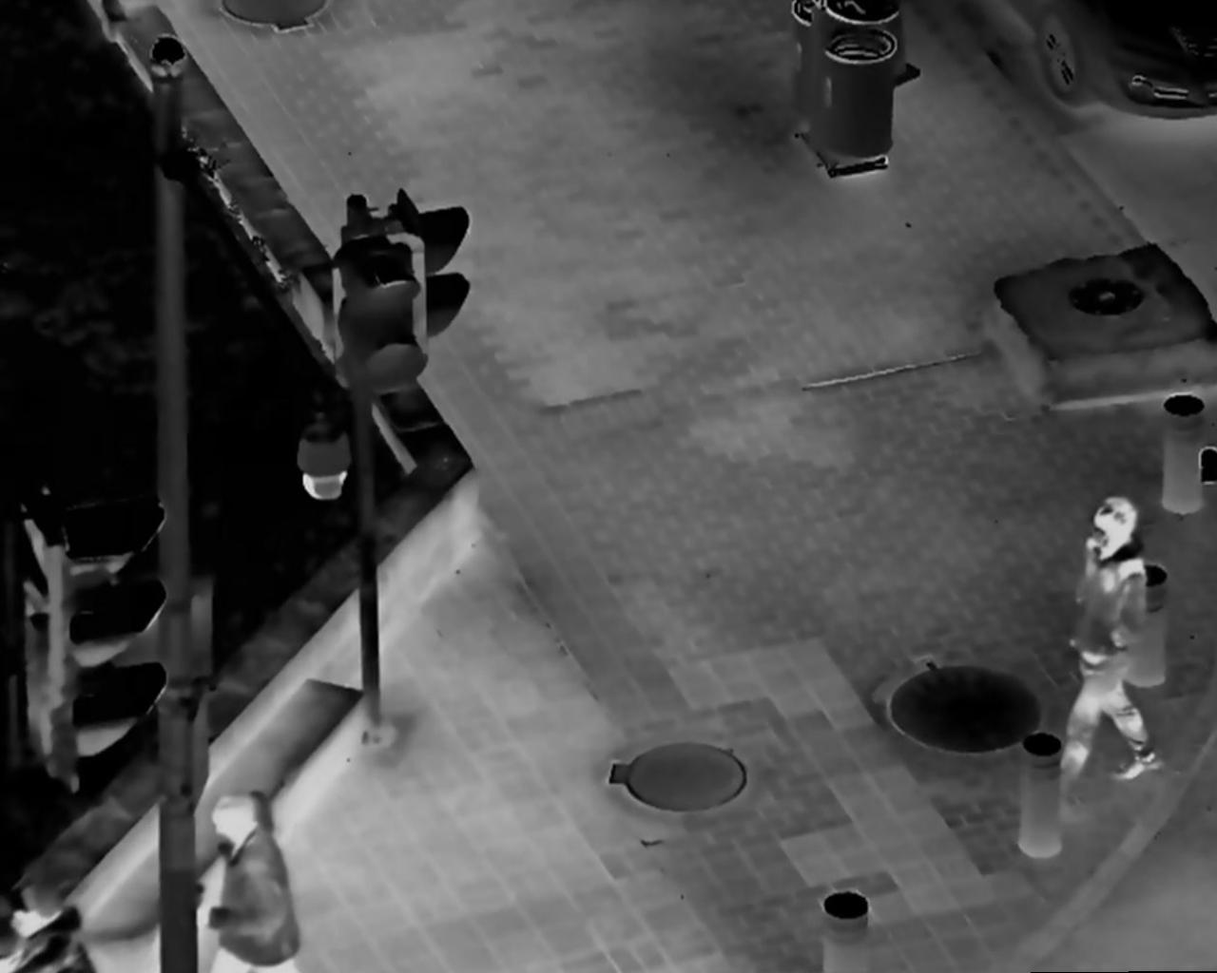person: (1054, 486, 1169, 830), (201, 790, 313, 973), (6, 879, 95, 973)
